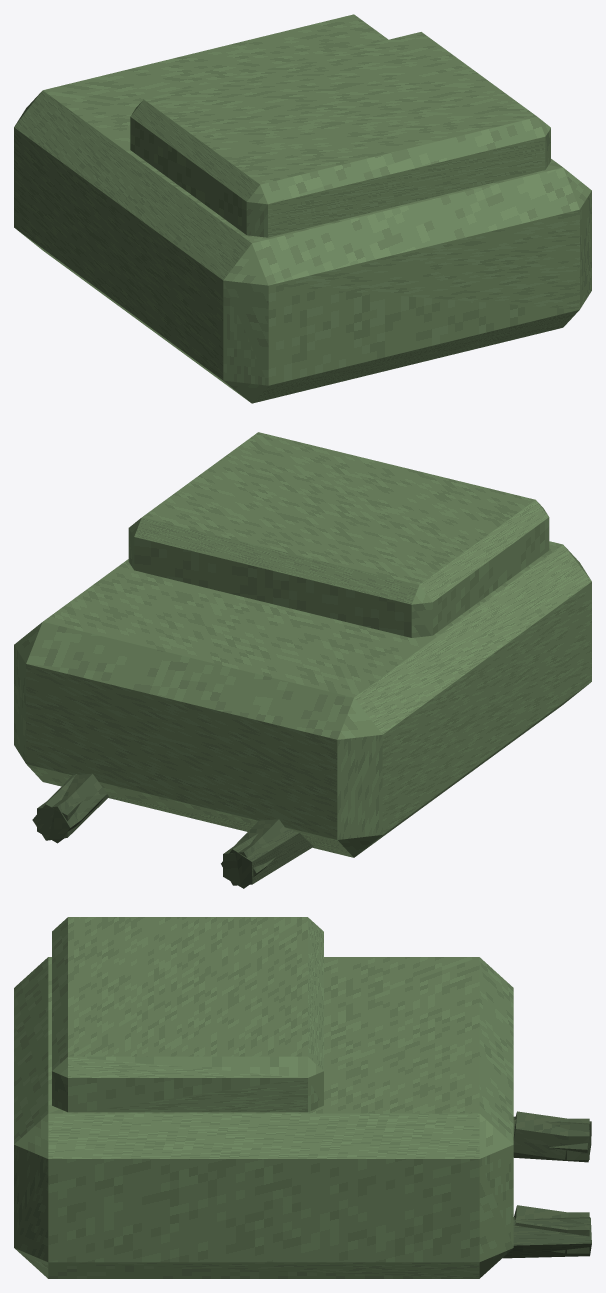
The model's file is rucksack.glb.
3 views of the same model, one above another, from view 1: azimuth 30°, elevation 25°; view 2: azimuth 150°, elevation 25°; view 3: azimuth 270°, elevation 25° (orthographic). The views are drawn at different scales.
Visible parts, largest first — view 1: block_soft-sided bag, block_front compartment; view 2: block_soft-sided bag, block_front compartment, block_webbing strap 2 (×2), block_webbing strap 0 (×2), block_webbing strap 1 (×2); view 3: block_soft-sided bag, block_front compartment, block_webbing strap 2 (×2), block_webbing strap 0 (×2), block_webbing strap 1.
Part boxes in pixels (x1,y1,x2,y2): block_soft-sided bag: (14,14,591,403); block_front compartment: (130,32,550,237); block_soft-sided bag: (14,541,591,857); block_front compartment: (128,432,549,637); block_webbing strap 2 (×2): (32,774,313,885); block_webbing strap 0 (×2): (47,773,286,865); block_webbing strap 1 (×2): (37,799,267,888); block_soft-sided bag: (14,957,513,1278); block_front compartment: (52,917,323,1112); block_webbing strap 2 (×2): (502,1116,591,1258); block_webbing strap 0 (×2): (513,1111,568,1253); block_webbing strap 1: (567,1118,589,1159).
Size of the model in its own units: 0.3564 by 0.1971 by 0.4693.
Materials: 1 (1 with a texture image).
